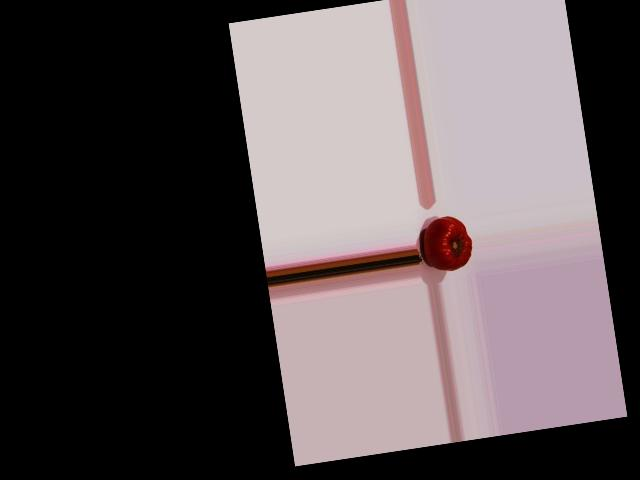tomato: (420, 213, 474, 273)
